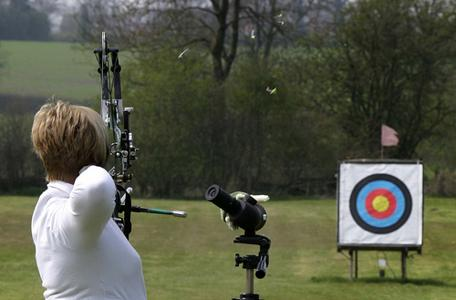person: (28, 98, 151, 300)
